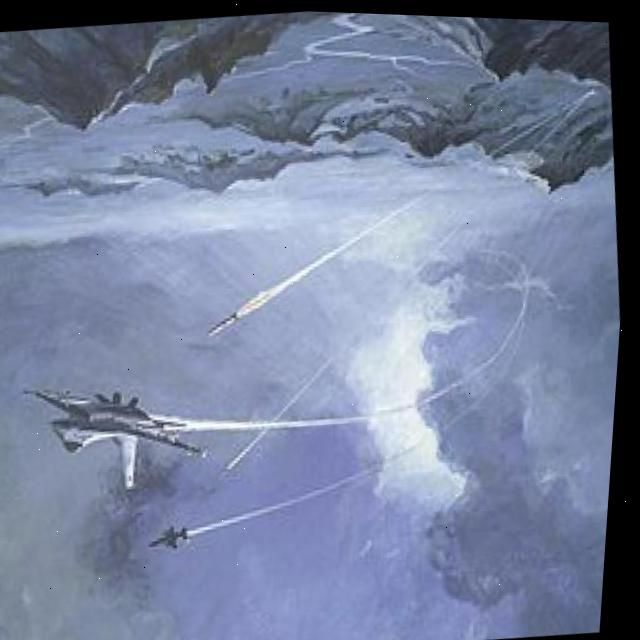missile: (209, 311, 245, 340)
